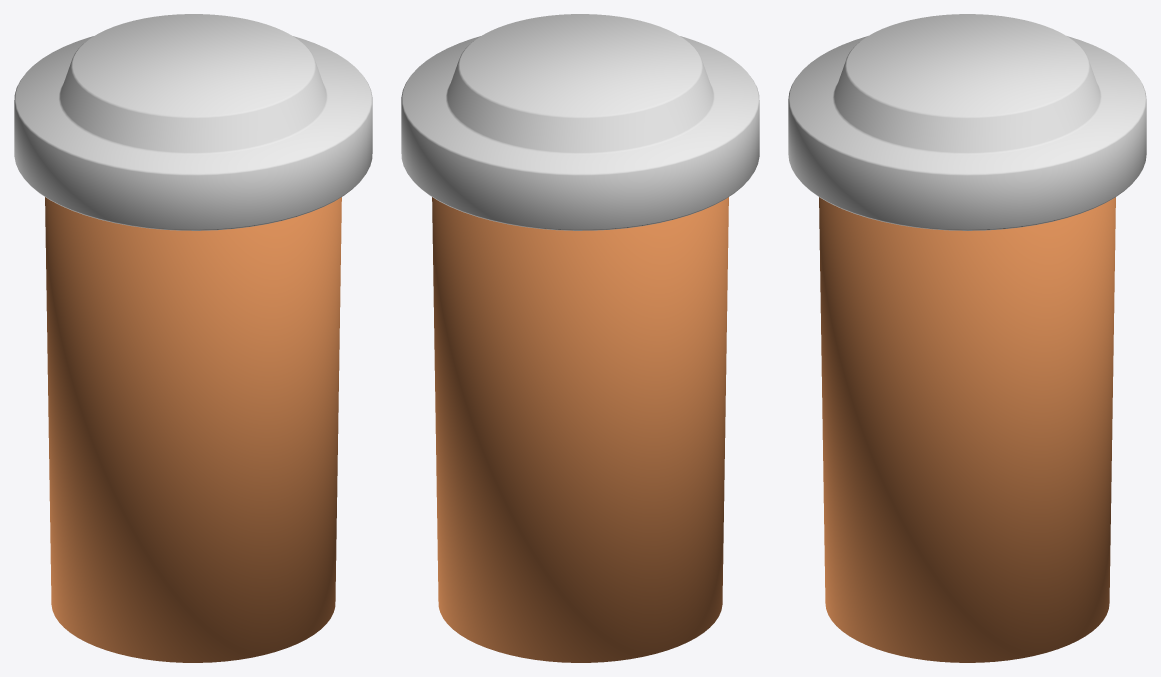
The model's file is Pill Debug.fbx.
The picture shows the model from 3 angles, left to right: view 1: azimuth 30°, elevation 25°; view 2: azimuth 150°, elevation 25°; view 3: azimuth 270°, elevation 25°; orthographic projection.
Visible parts, largest first — view 1: Cylinder.019; view 2: Cylinder.019; view 3: Cylinder.019.
Boxes of the visible parts, bbox=[...] form: Cylinder.019: bbox=[14, 14, 372, 662]; Cylinder.019: bbox=[401, 14, 759, 662]; Cylinder.019: bbox=[788, 14, 1146, 662].
Size of the model in its own units: 16.03 by 26.56 by 16.03.
